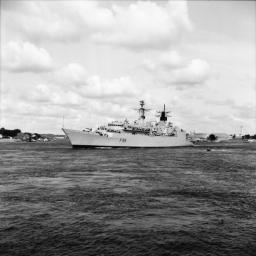Fragata: (61, 95, 194, 152)
